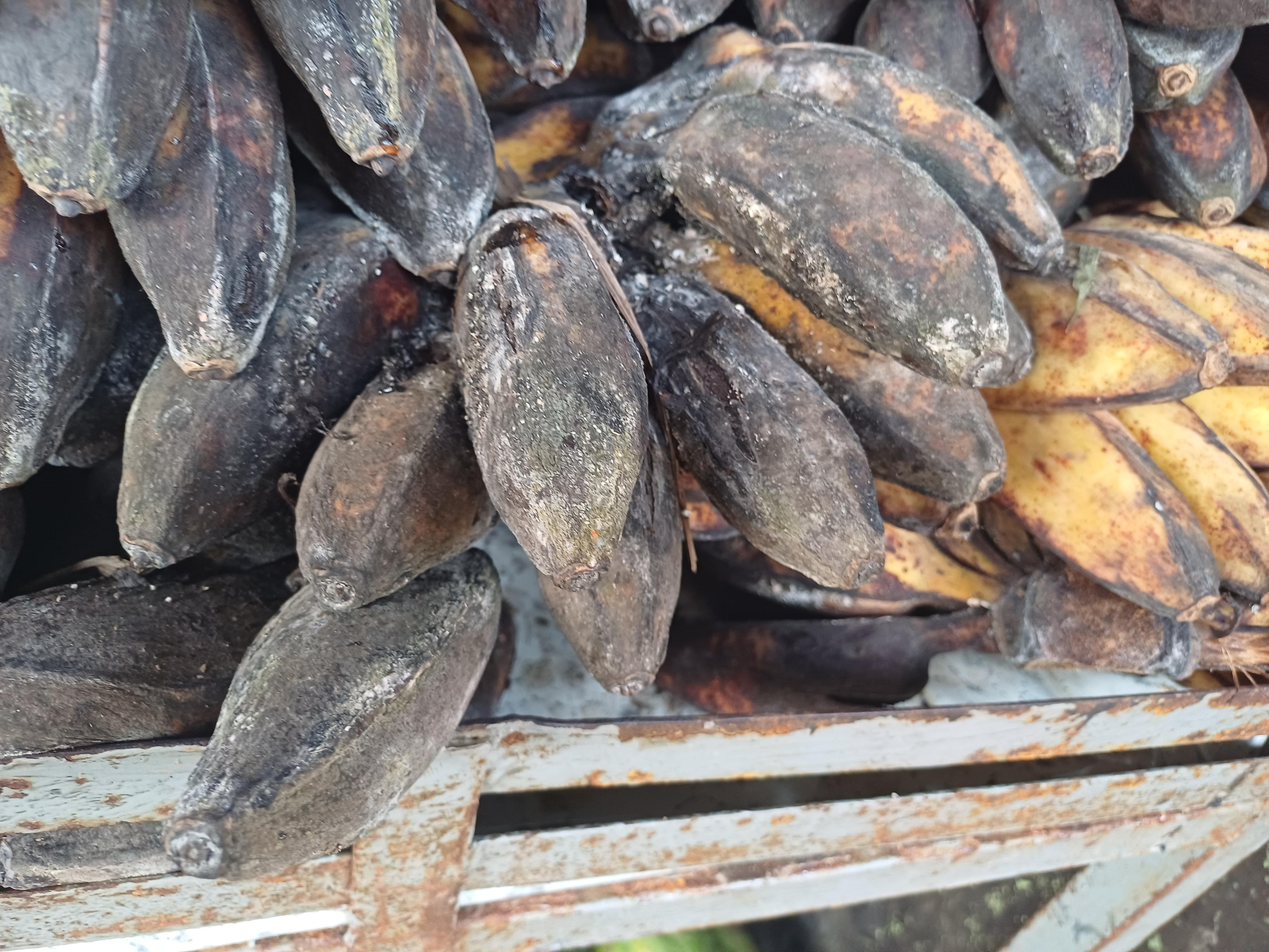overripe: (45, 26, 1066, 702), (0, 0, 496, 499), (0, 550, 502, 877), (852, 0, 1269, 225)
ripe: (989, 215, 1269, 623)
